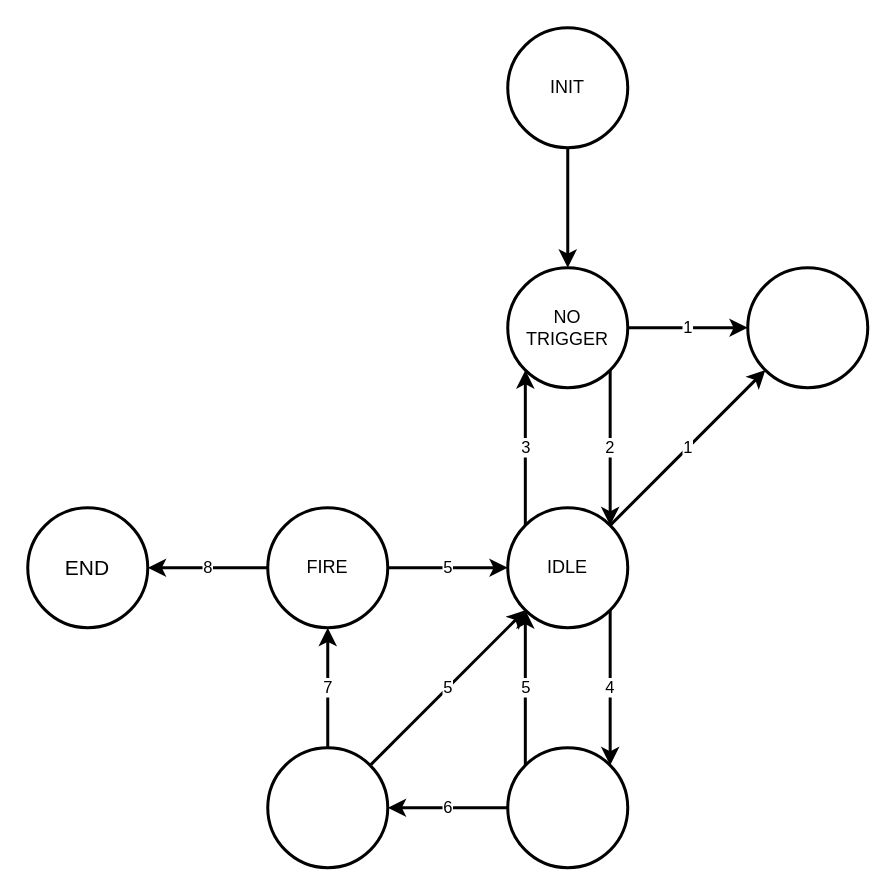
Image size: 894x894. Some labels were removed from this diagram. The centre of each missing label's shape, as x and y in pixels:
ARMED: pixel 567 807
PG MODE: pixel 807 327
WAIT: pixel 327 807
